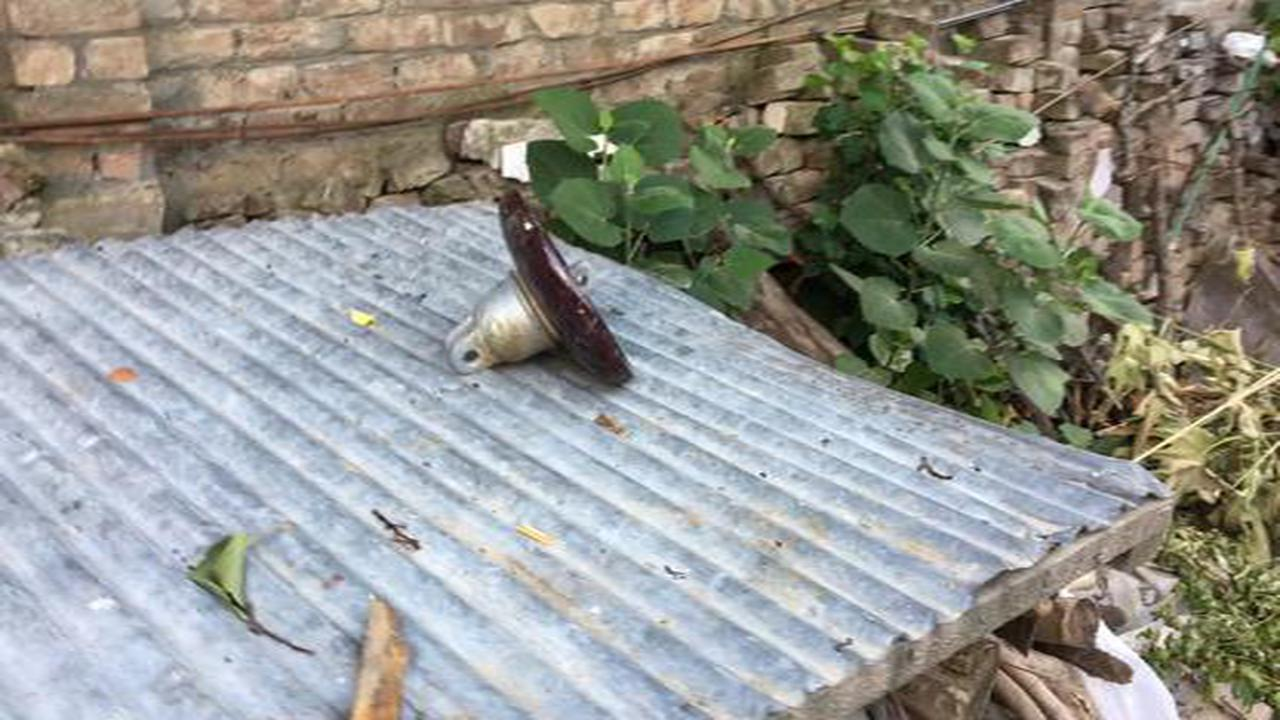insulator_disc: (440, 185, 637, 394)
